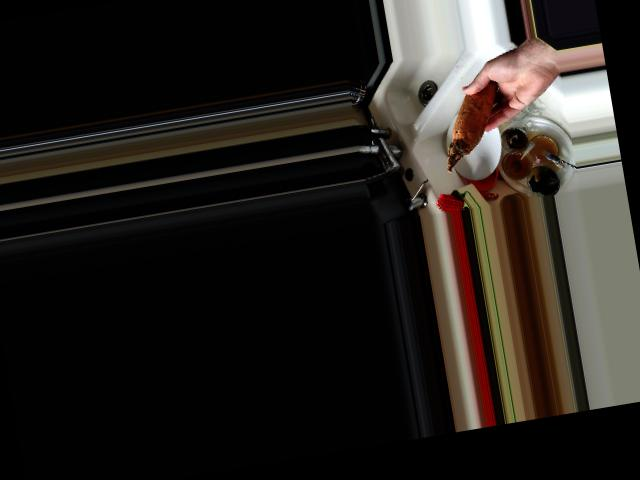sweet_potato: (432, 72, 515, 174)
